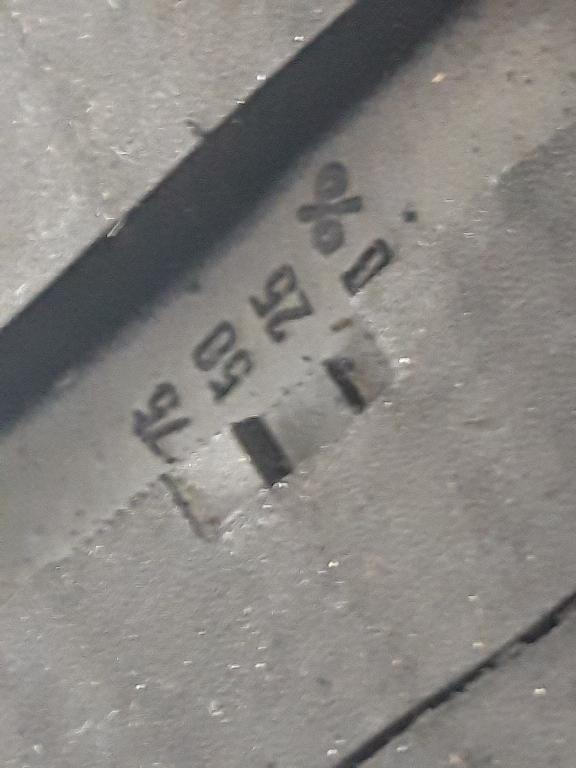temoin:50: (145, 280, 428, 572)
